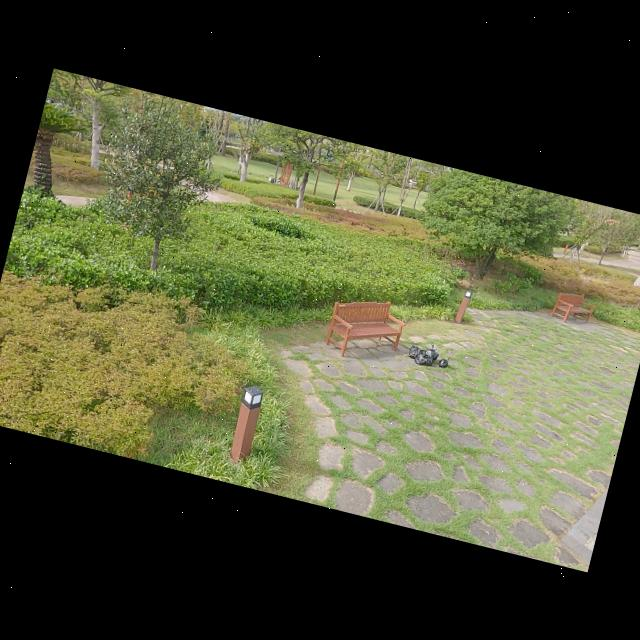trash: (412, 350, 434, 368), (406, 344, 426, 361), (423, 342, 440, 362), (437, 357, 449, 369)
